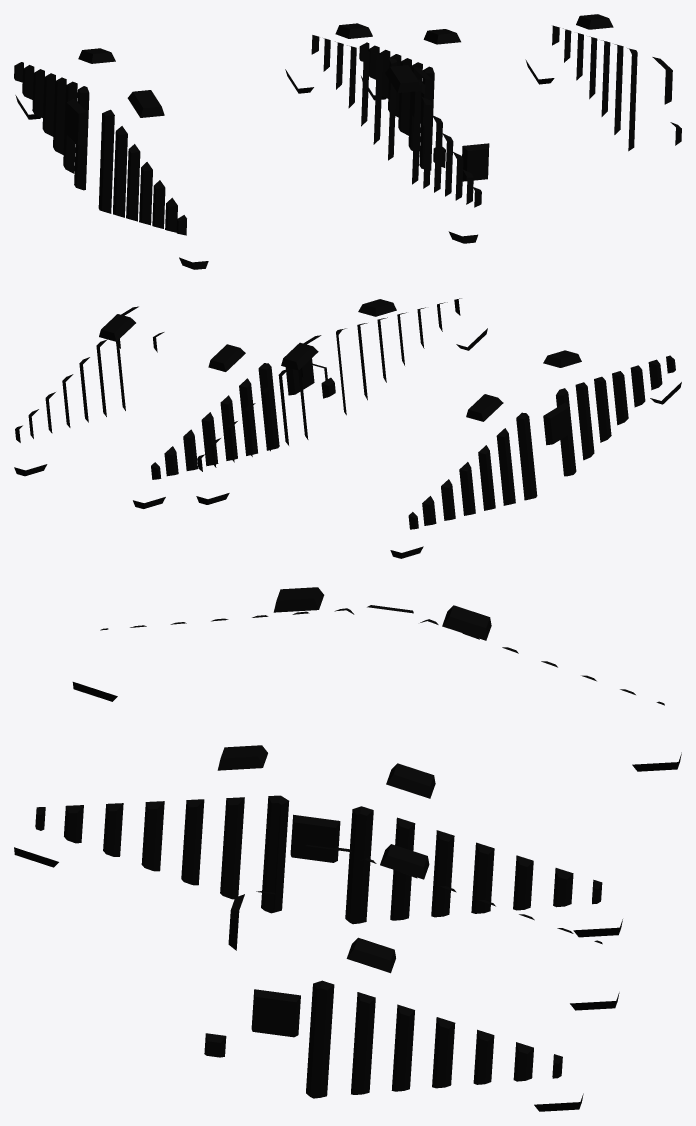
File: prop_static_tan_container_01_06_0.glb
3 renders of one model, top to bottom at view 1: azimuth 30°, elevation 25°; view 2: azimuth 150°, elevation 25°; view 3: azimuth 270°, elevation 25°, orthographic. The views are drawn at different scales.
Visible parts, largest first — view 1: tan_container_01_06_LOD0; view 2: tan_container_01_06_LOD0; view 3: tan_container_01_06_LOD0.
Boxes of the visible parts, <box> form: tan_container_01_06_LOD0: <box>14,14,681,269</box>; tan_container_01_06_LOD0: <box>14,298,681,558</box>; tan_container_01_06_LOD0: <box>14,587,681,1111</box>.
Size of what is drawn, in the model's own units: 5.83 by 1.79 by 4.88.
1 material, 1 textured.
